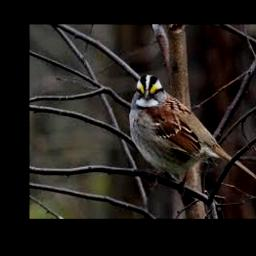Sparrow: (129, 74, 256, 188)
